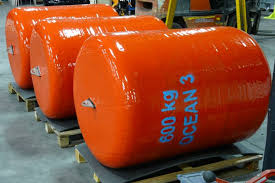buoy: (73, 32, 272, 170), (29, 17, 171, 119), (4, 4, 119, 85)
